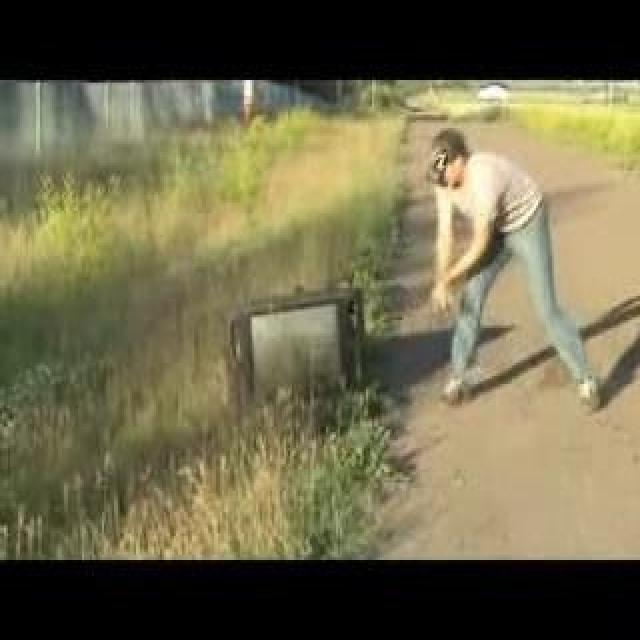fight: (198, 39, 640, 518)
